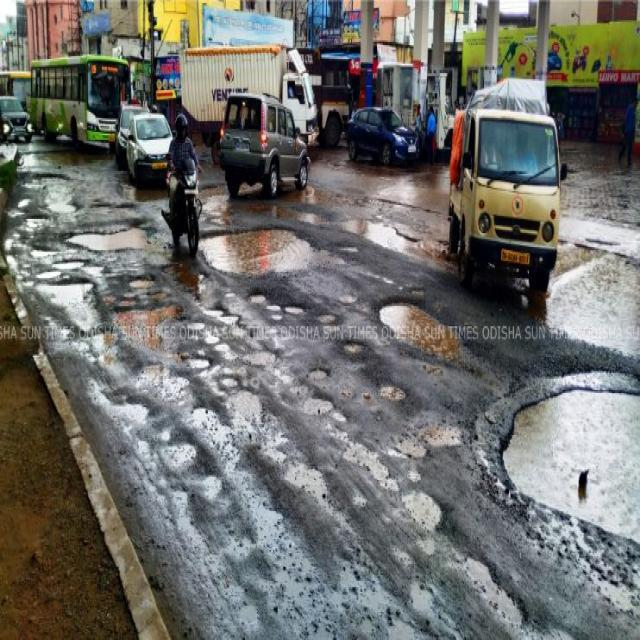Pothole: (497, 371, 640, 547), (199, 225, 320, 281), (376, 293, 464, 365), (456, 550, 531, 634), (334, 211, 442, 269), (37, 273, 101, 331), (114, 298, 180, 348), (62, 220, 156, 253), (398, 478, 443, 537)
